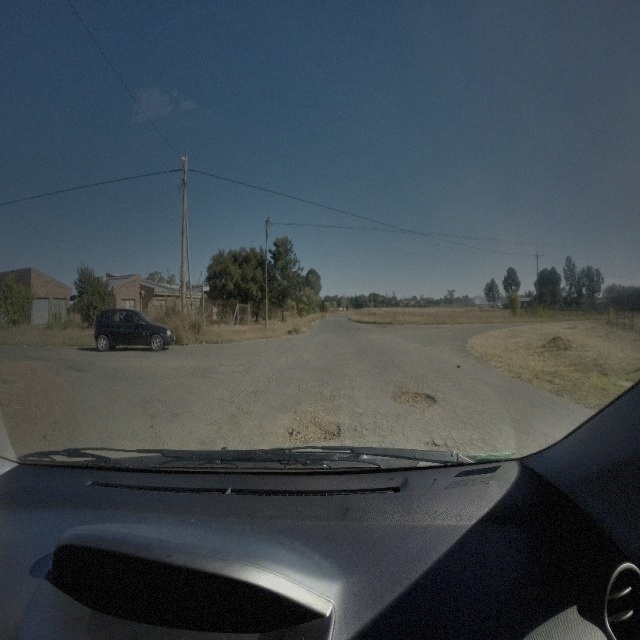pothole: (286, 406, 344, 444), (390, 385, 439, 412)
